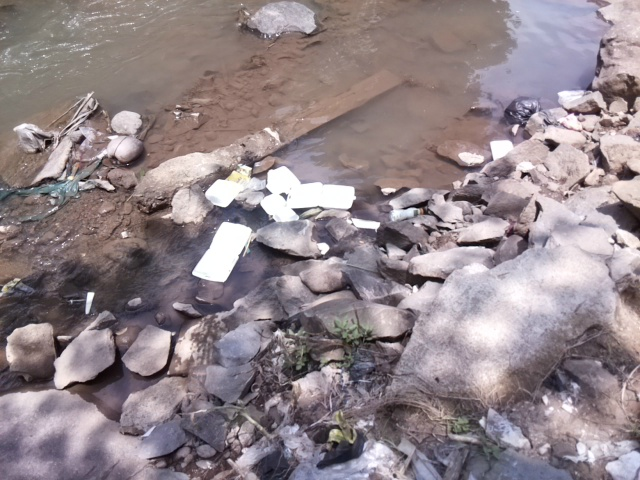Sampah_Botol_Plastik: (386, 206, 427, 222)
Sampah_Plastik: (503, 93, 544, 125)
Sampah_Styrofoam: (252, 165, 357, 222), (190, 217, 254, 289), (202, 177, 241, 209), (489, 137, 516, 161)
